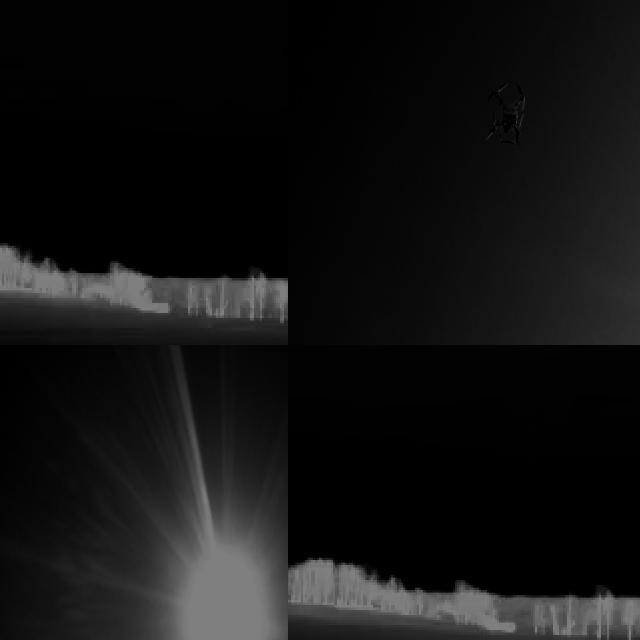drone: (478, 78, 530, 156)
